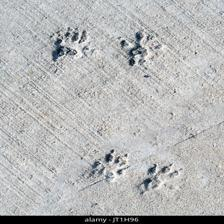squirrel: (137, 165, 185, 199)
